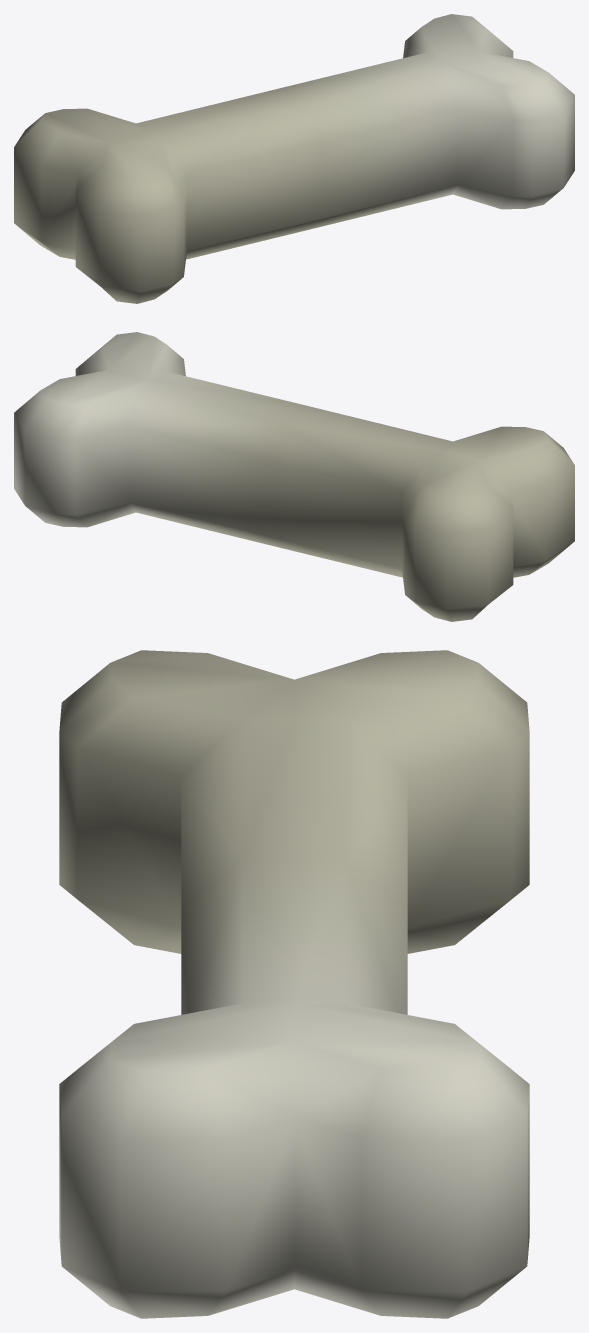
The model's file is Drop_Bone.fbx.
The picture shows the model from 3 angles, top to bottom: view 1: azimuth 30°, elevation 25°; view 2: azimuth 150°, elevation 25°; view 3: azimuth 270°, elevation 25°; orthographic projection. The views are drawn at different scales.
Visible parts, largest first — view 1: Drop_Bone; view 2: Drop_Bone; view 3: Drop_Bone.
Boxes of the visible parts, x1,y1,x2,y2 form: Drop_Bone: (14, 14, 574, 303); Drop_Bone: (14, 332, 574, 621); Drop_Bone: (59, 650, 529, 1318).
Bounding box in the file's own units: 0.9488 × 0.2358 × 0.4073.
